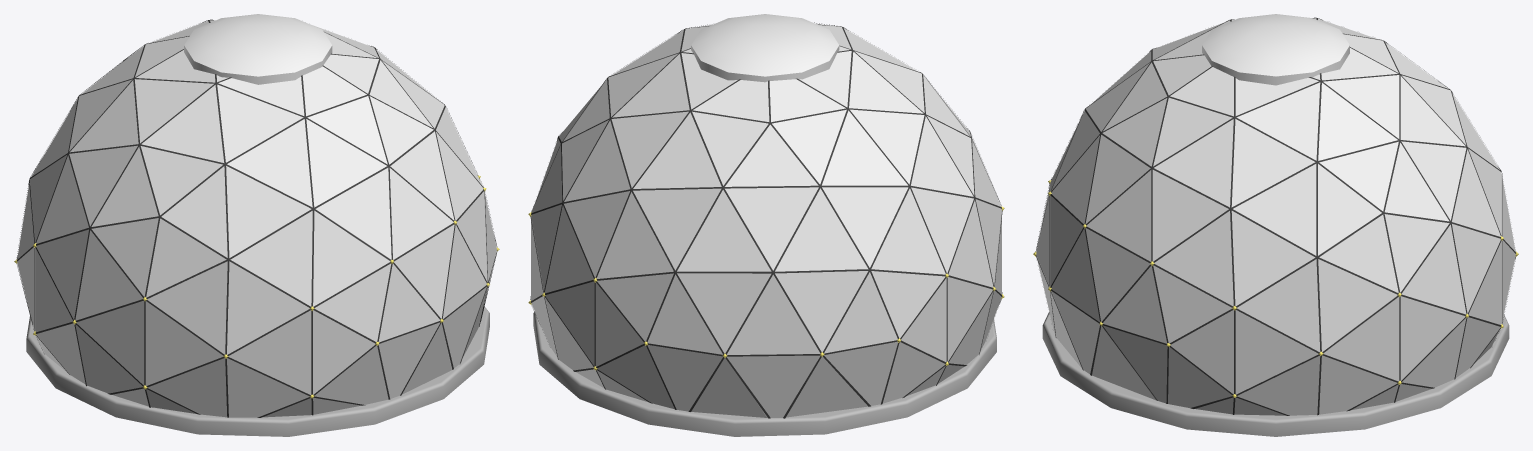
File: spherical_building_001.fbx
3 renders of one model, left to right at view 1: azimuth 30°, elevation 25°; view 2: azimuth 150°, elevation 25°; view 3: azimuth 270°, elevation 25°, orthographic.
Parts seen in each view (by area): view 1: spherical_building_001; view 2: spherical_building_001; view 3: spherical_building_001.
Boxes of the visible parts, left/top/right/bottom form: spherical_building_001: left=14, top=14, right=499, bottom=436; spherical_building_001: left=528, top=14, right=1004, bottom=436; spherical_building_001: left=1033, top=14, right=1518, bottom=436.
Size of the model in its own units: 1576 by 1605 by 1108.
